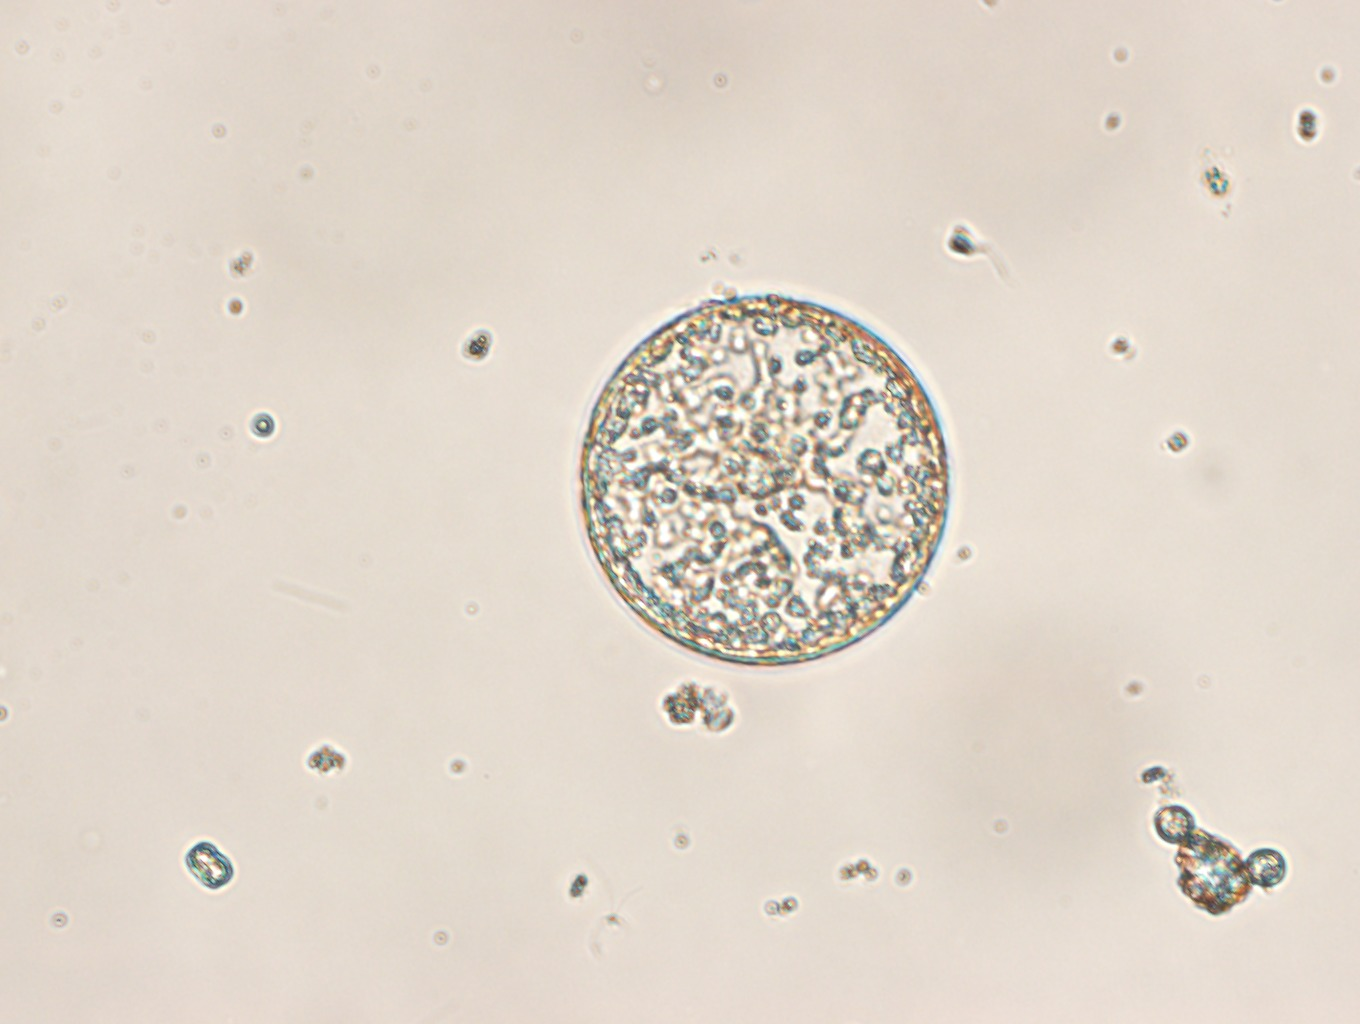coscinodiscus: (579, 293, 950, 668)
